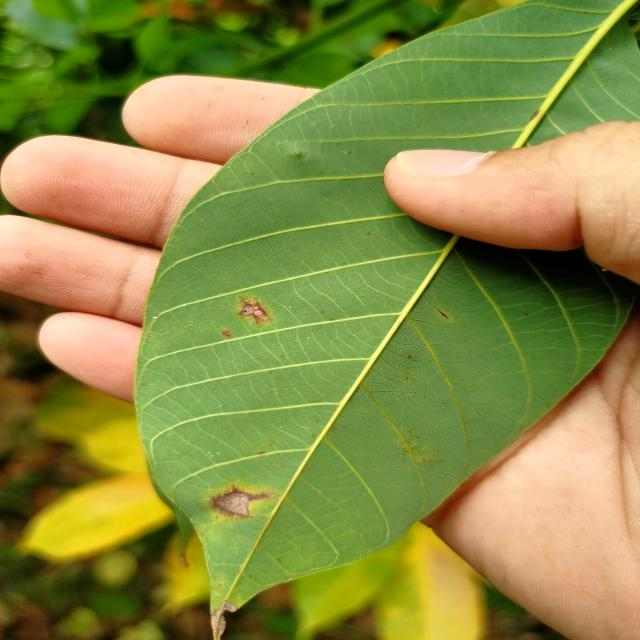Colletotrichum: (148, 334, 152, 337)
Leaf-Blight: (211, 600, 237, 640), (215, 490, 249, 518)
